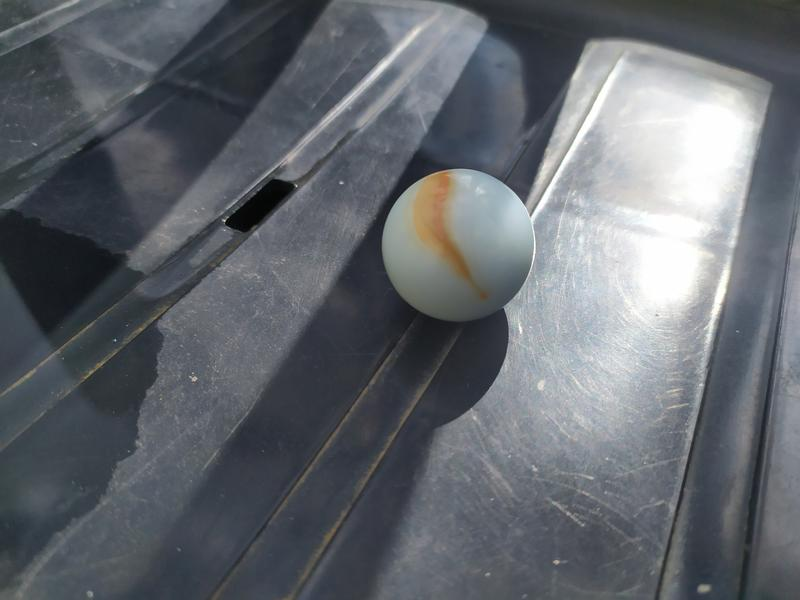Warning: (379, 165, 539, 325)
